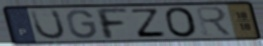F: (93, 7, 131, 41)
G: (66, 8, 99, 40)
O: (163, 6, 200, 39)
R: (193, 6, 236, 38)
U: (29, 9, 68, 41)
Z: (130, 8, 168, 39)
